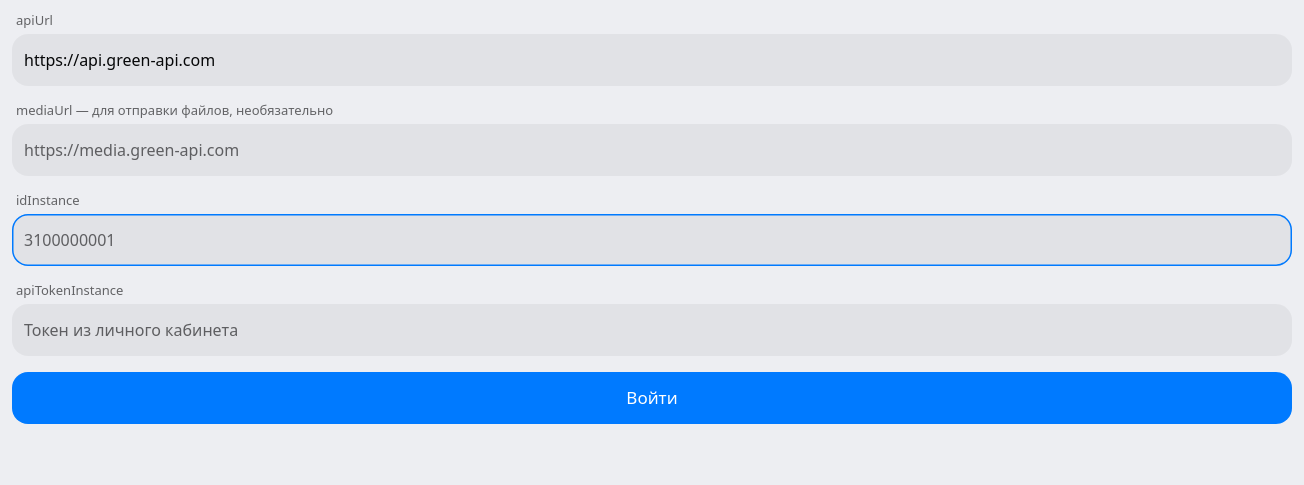
CredentialsForm › требует idInstance и apiTokenInstance и не обращается к API
Click the button "Войти" at (652, 398), box [12, 372, 1292, 424]
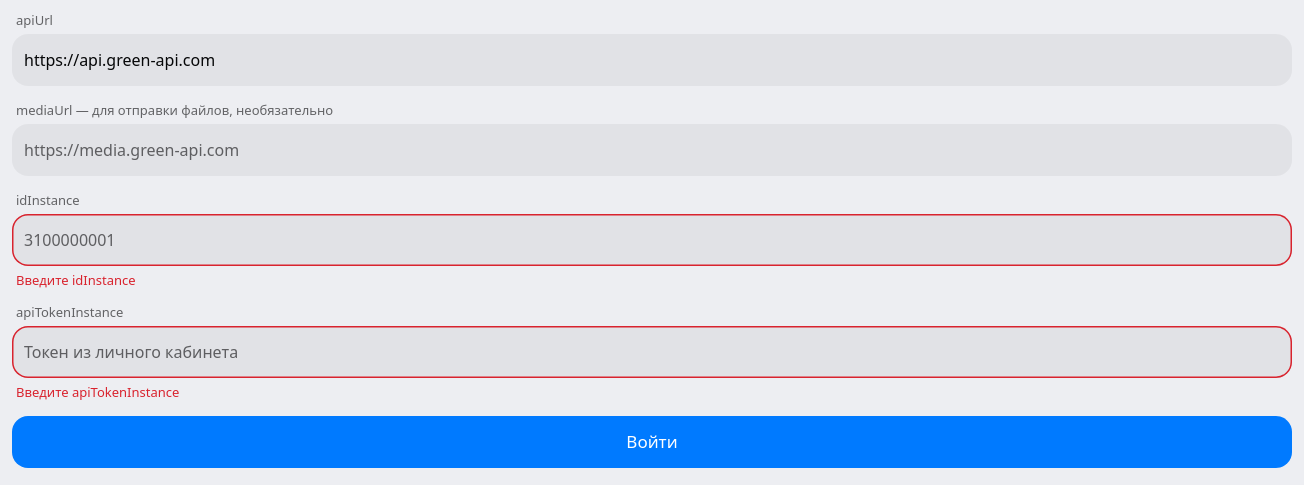
expect the text "Введите idInstance" is shown: met, box [16, 271, 136, 289]
expect the text "Введите apiTokenInstance" is shown: met, box [16, 383, 179, 401]
